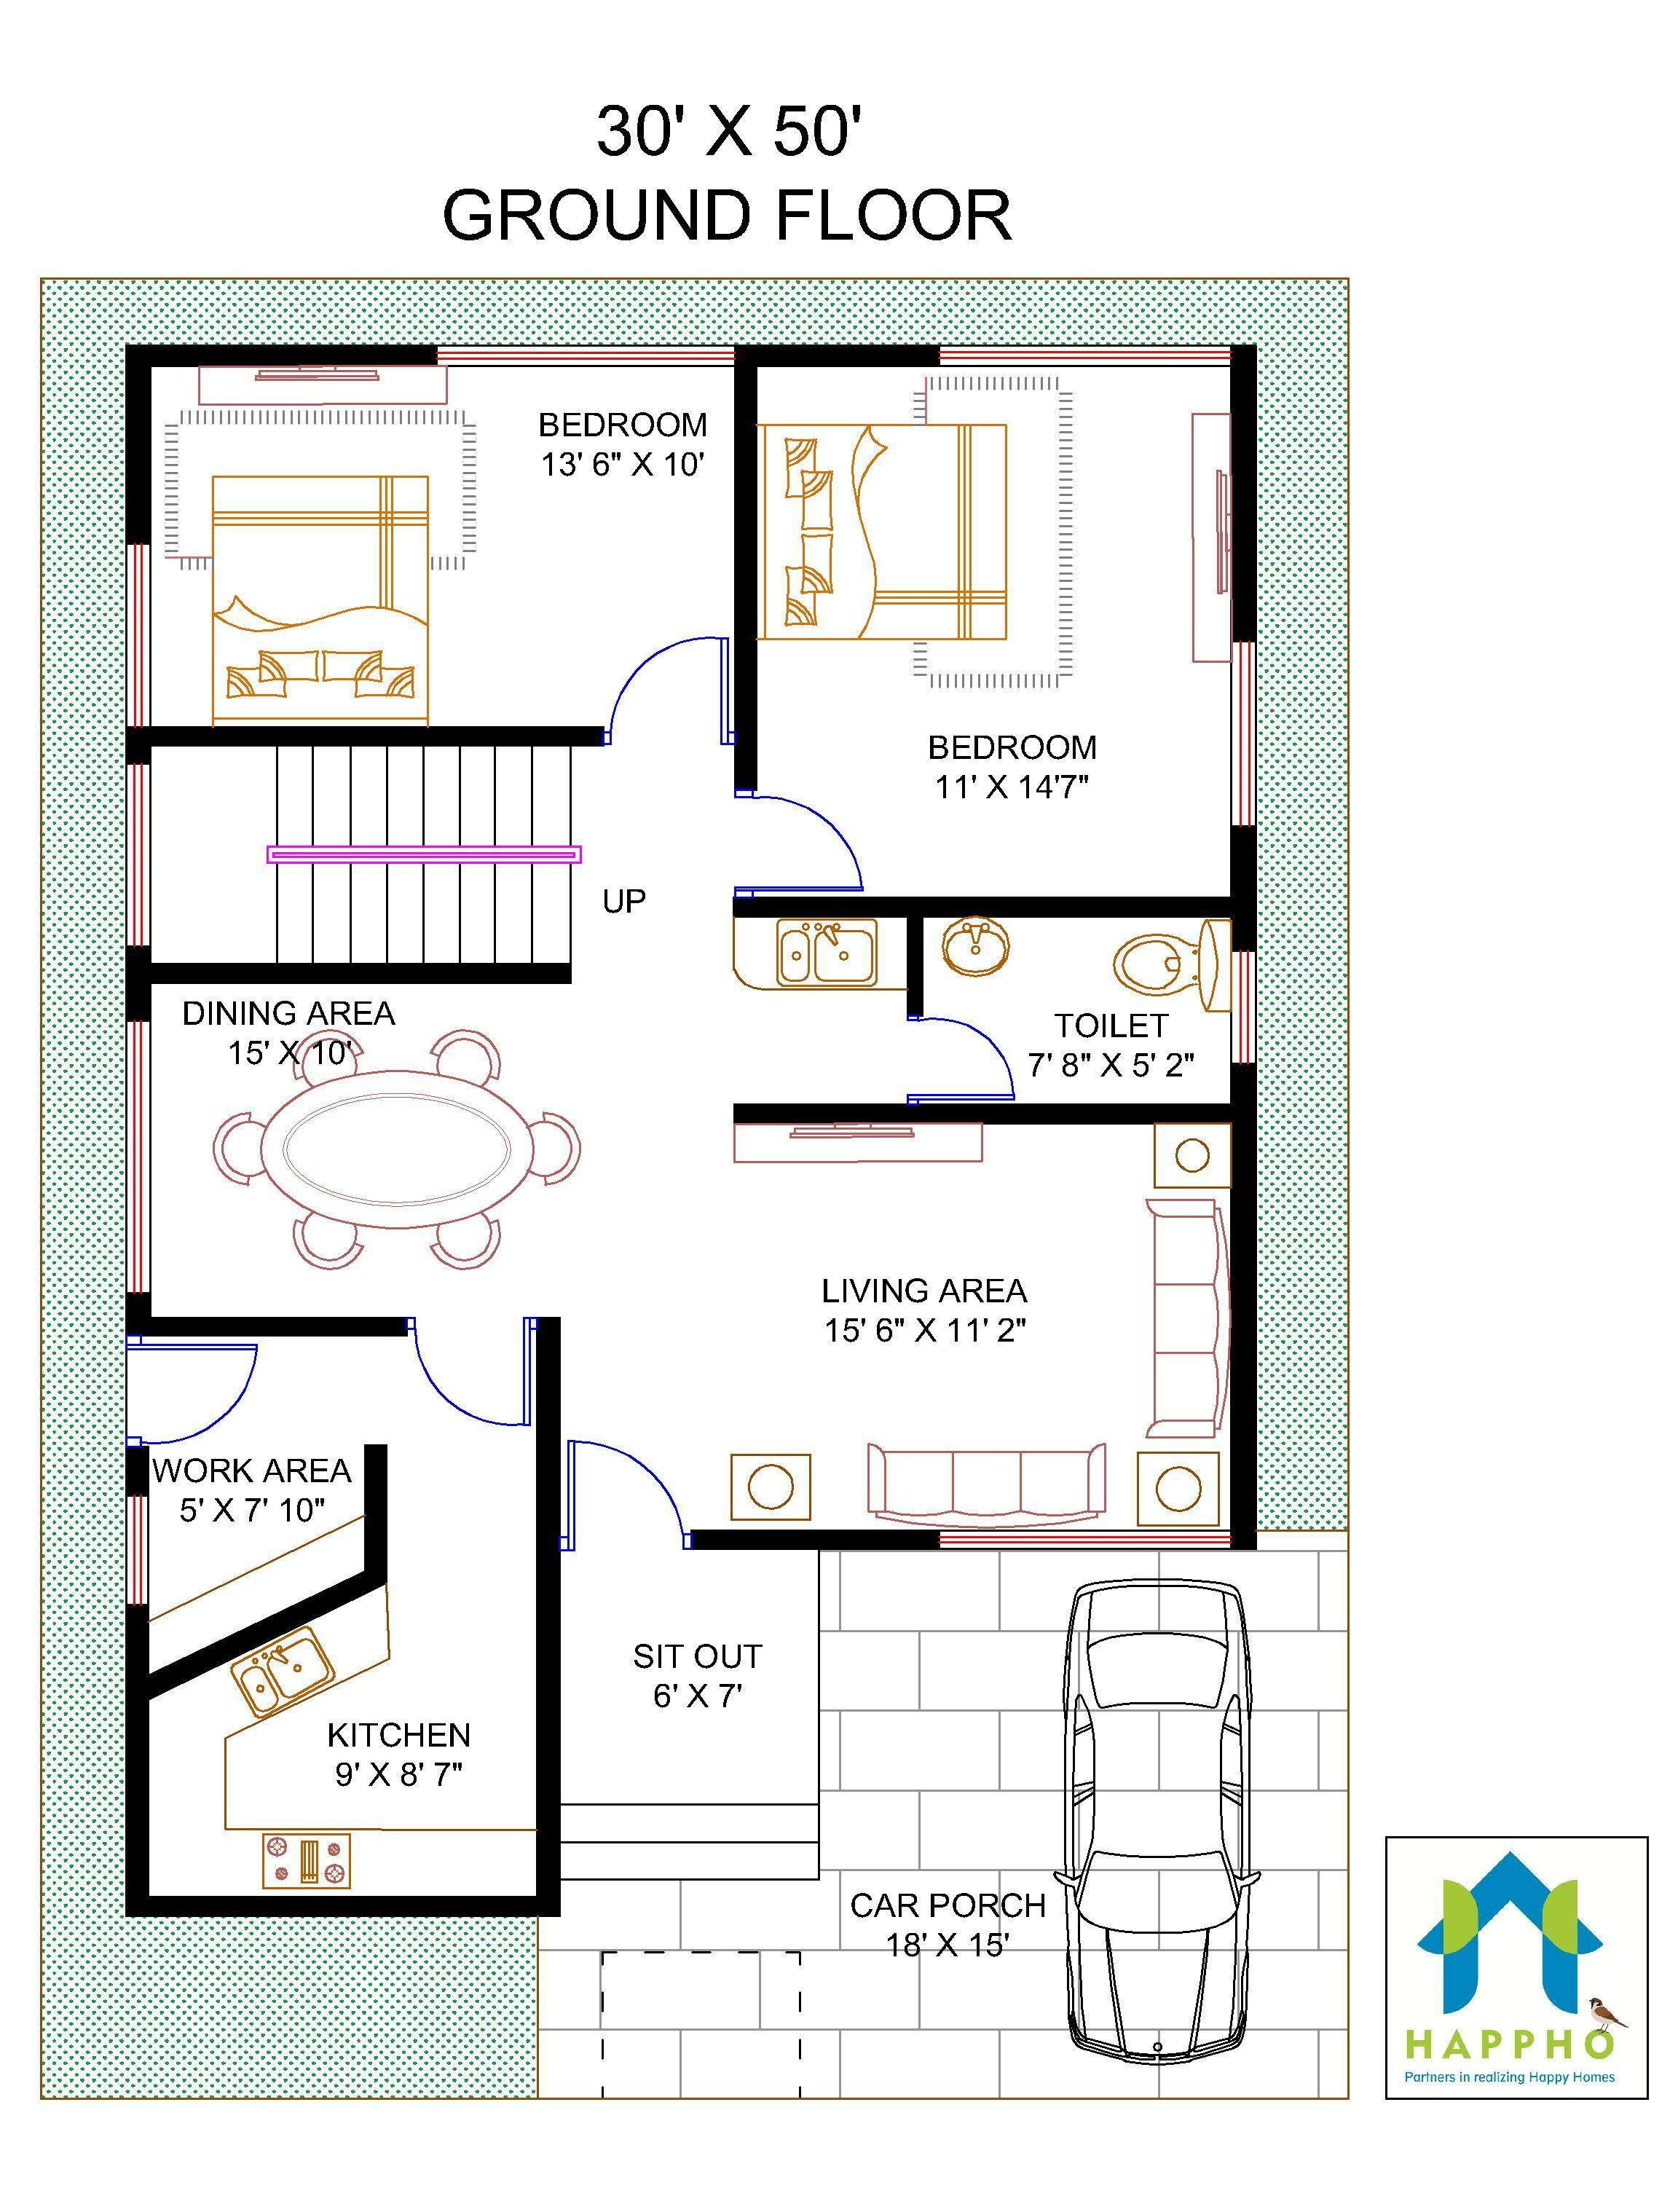room: (532, 1105, 1257, 1549), (730, 344, 1257, 922), (122, 340, 760, 756)
